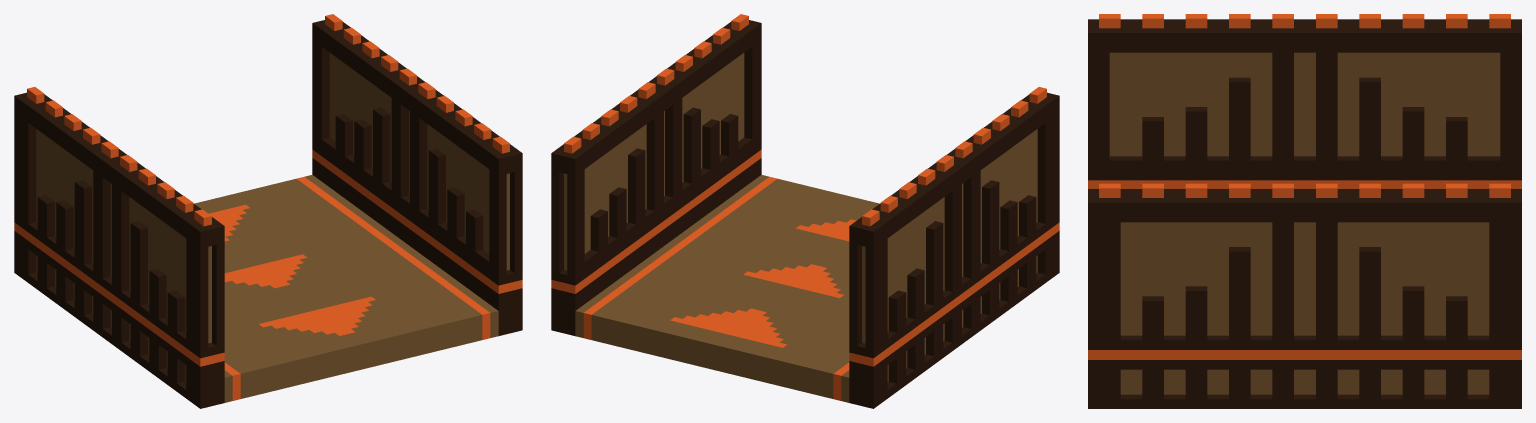
The model's file is Factory Bits-1-1X1.obj.
3 views of the same model, side by side, from view 1: azimuth 30°, elevation 25°; view 2: azimuth 150°, elevation 25°; view 3: azimuth 270°, elevation 25° (orthographic). The views are drawn at different scales.
Parts seen in each view (by area): view 1: 1X1; view 2: 1X1; view 3: 1X1.
Boxes of the visible parts, box(x1,y1,x2,y2) form: 1X1: box(14, 14, 522, 408); 1X1: box(551, 14, 1059, 408); 1X1: box(1088, 14, 1521, 408).
Bounding box in the file's own units: 4 × 2.2 × 4.
Materials: 1 (1 with a texture image).
